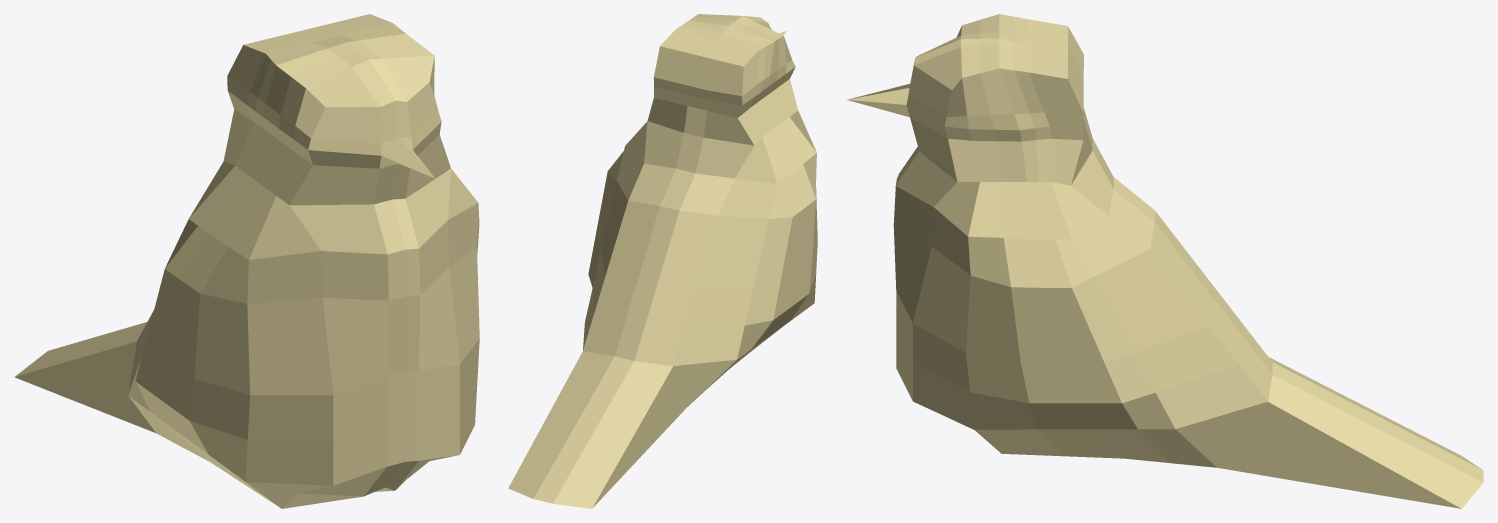
Rendered from tori.gltf.
3 renders of one model, left to right at view 1: azimuth 30°, elevation 25°; view 2: azimuth 150°, elevation 25°; view 3: azimuth 270°, elevation 25°, orthographic. The views are drawn at different scales.
Parts seen in each view (by area): view 1: Cube, Cube.001; view 2: Cube; view 3: Cube, Cube.001.
Part boxes in pixels (box(x1,y1,x2,y2)): Cube: box(14, 14, 479, 508); Cube.001: box(379, 137, 434, 178); Cube: box(508, 14, 817, 508); Cube: box(893, 14, 1483, 508); Cube.001: box(846, 84, 909, 117).
Size of the model in its own units: 1.5 by 2.65 by 3.45.
